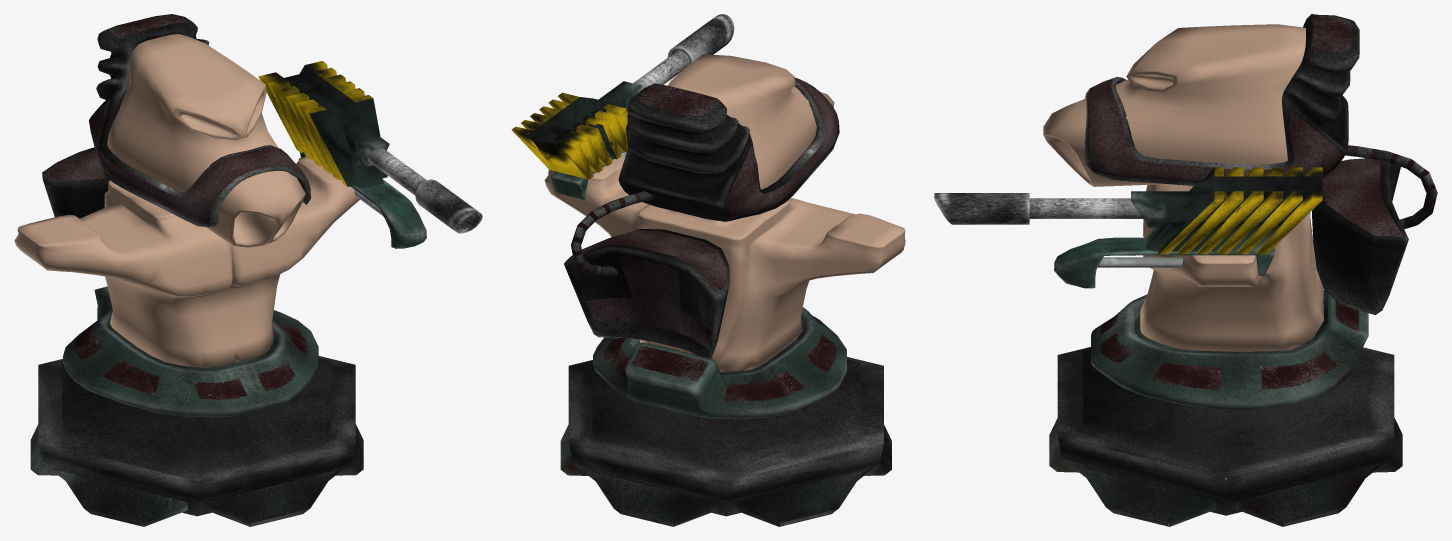
The model's file is Kill_Machine_vs_texturing_Low2.fbx.
3 renders of one model, left to right at view 1: azimuth 30°, elevation 25°; view 2: azimuth 150°, elevation 25°; view 3: azimuth 270°, elevation 25°, orthographic. The views are drawn at different scales.
Parts seen in each view (by area): view 1: Turret, Platform, Turret_platform, BackPack, Gun1, LeftGunPlatform; view 2: Platform, BackPack, Turret, Turret_platform, Gun1, LeftGunPlatform; view 3: Turret, Platform, BackPack, Gun1, Turret_platform, LeftGunPlatform.
Part boxes in pixels (<box>): Turret: <box>14,34,359,367</box>; Platform: <box>30,356,363,526</box>; Turret_platform: <box>63,286,318,417</box>; BackPack: <box>42,14,310,227</box>; Gun1: <box>258,61,482,233</box>; LeftGunPlatform: <box>299,152,426,248</box>; Platform: <box>560,357,891,526</box>; BackPack: <box>564,77,839,358</box>; Turret: <box>544,54,905,371</box>; Turret_platform: <box>593,307,846,419</box>; Gun1: <box>511,14,734,179</box>; LeftGunPlatform: <box>550,151,626,199</box>; Turret: <box>1043,24,1323,351</box>; Platform: <box>1049,347,1402,526</box>; BackPack: <box>1084,14,1437,314</box>; Gun1: <box>934,167,1322,254</box>; Turret_platform: <box>1091,289,1368,409</box>; LeftGunPlatform: <box>1054,237,1274,288</box>.
Bounding box in the file's own units: 116 × 132 × 140.
